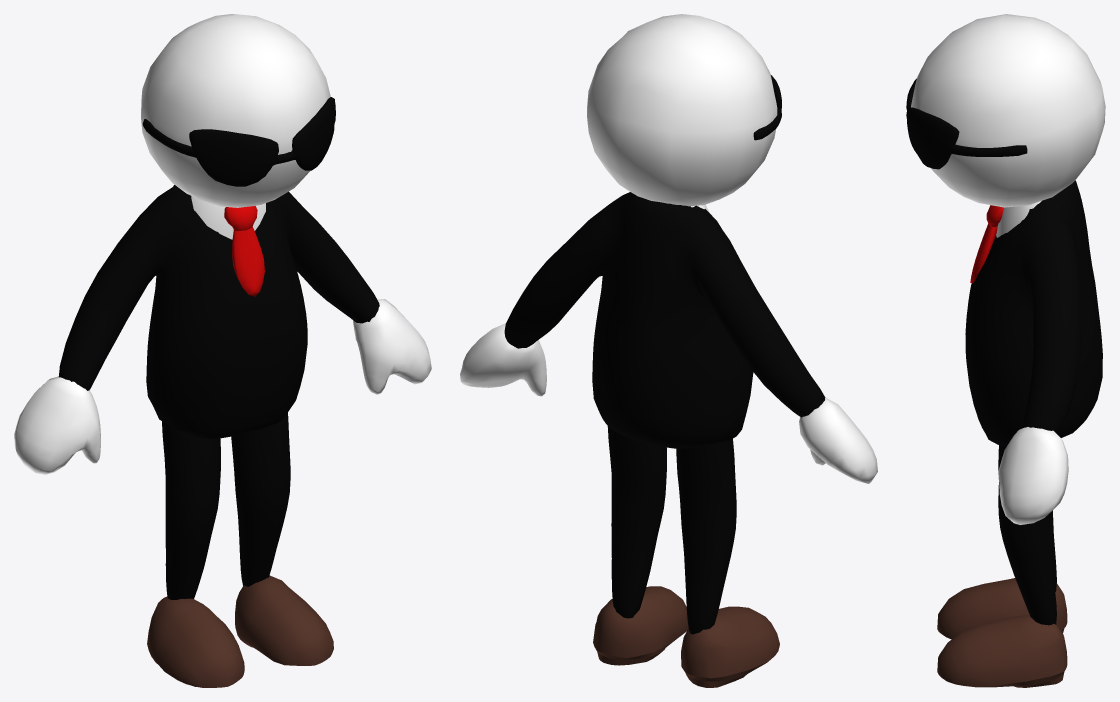
The model's file is Hero.fbx.
3 views of the same model, side by side, from view 1: azimuth 30°, elevation 25°; view 2: azimuth 150°, elevation 25°; view 3: azimuth 270°, elevation 25° (orthographic).
Visible parts, largest first — view 1: Hero_black_coat_lp, Hero_white_lp1, Hero_black_pants_lp, Hero_brown_lp1, Hero_glass, Hero_tie_lp, Hero_white_lp2; view 2: Hero_black_coat_lp, Hero_white_lp1, Hero_black_pants_lp, Hero_brown_lp1; view 3: Hero_white_lp1, Hero_black_coat_lp, Hero_brown_lp1, Hero_black_pants_lp, Hero_glass, Hero_tie_lp, Hero_white_lp2.
Boxes of the visible parts, x1=… form: Hero_black_coat_lp: x1=58, y1=185, x2=379, y2=439; Hero_white_lp1: x1=14, y1=14, x2=431, y2=474; Hero_black_pants_lp: x1=162, y1=413, x2=290, y2=599; Hero_brown_lp1: x1=147, y1=575, x2=333, y2=687; Hero_glass: x1=142, y1=97, x2=335, y2=186; Hero_tie_lp: x1=224, y1=205, x2=264, y2=296; Hero_white_lp2: x1=191, y1=196, x2=265, y2=239; Hero_black_coat_lp: x1=504, y1=192, x2=825, y2=448; Hero_white_lp1: x1=460, y1=14, x2=877, y2=483; Hero_black_pants_lp: x1=607, y1=425, x2=736, y2=634; Hero_brown_lp1: x1=593, y1=586, x2=779, y2=687; Hero_white_lp1: x1=911, y1=14, x2=1105, y2=524; Hero_black_coat_lp: x1=965, y1=180, x2=1102, y2=446; Hero_brown_lp1: x1=937, y1=578, x2=1067, y2=687; Hero_black_pants_lp: x1=998, y1=445, x2=1056, y2=625; Hero_glass: x1=906, y1=78, x2=1027, y2=169; Hero_tie_lp: x1=970, y1=205, x2=1003, y2=283; Hero_white_lp2: x1=996, y1=201, x2=1041, y2=237.
Bounding box in the file's own units: 114 × 169 × 48.18.
